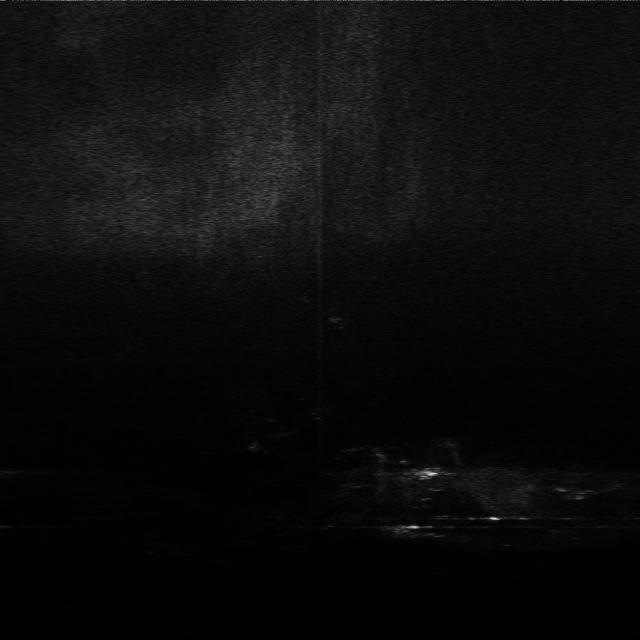rov: (410, 462, 446, 482)
